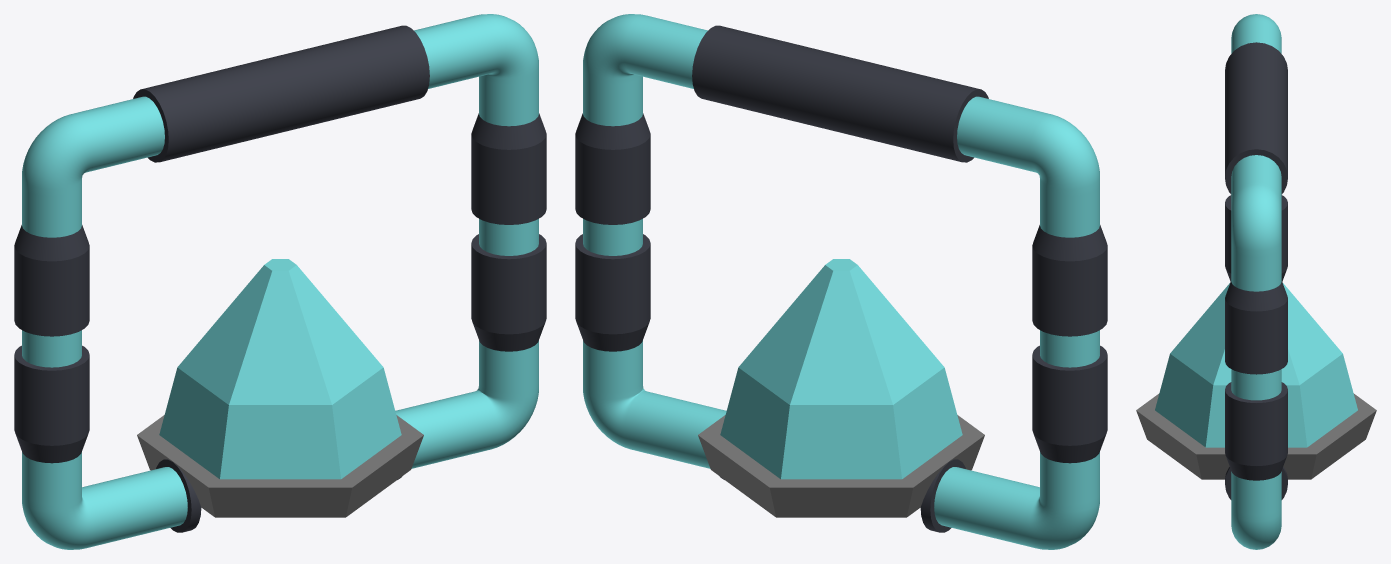
The model's file is slowBasefirstUpgrade.fbx.
The picture shows the model from 3 angles, left to right: view 1: azimuth 30°, elevation 25°; view 2: azimuth 150°, elevation 25°; view 3: azimuth 270°, elevation 25°; orthographic projection. The views are drawn at different scales.
Parts seen in each view (by area): view 1: mergedBlocks; view 2: mergedBlocks; view 3: mergedBlocks.
Boxes of the visible parts, x1,y1,x2,y2 form: mergedBlocks: (14, 14, 546, 549); mergedBlocks: (575, 14, 1107, 549); mergedBlocks: (1136, 14, 1376, 549).
Bounding box in the file's own units: 16 × 13 × 7.62.
